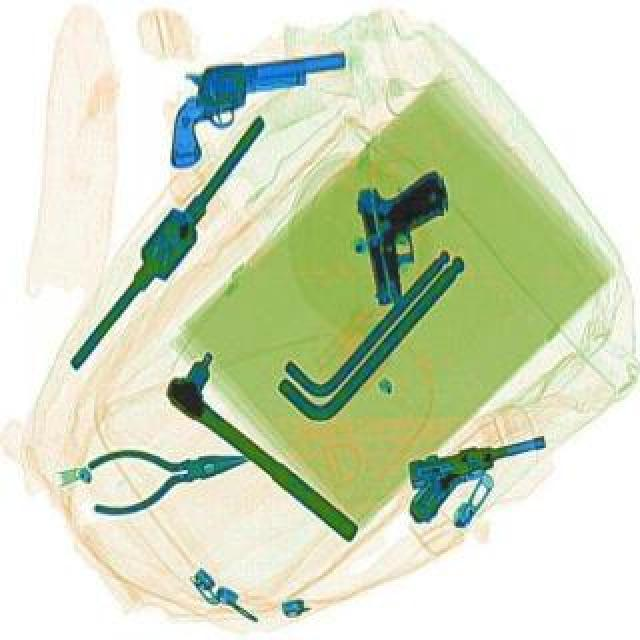gun: (156, 48, 360, 168), (396, 428, 558, 524), (354, 166, 462, 306)
wrench: (82, 430, 256, 516)
